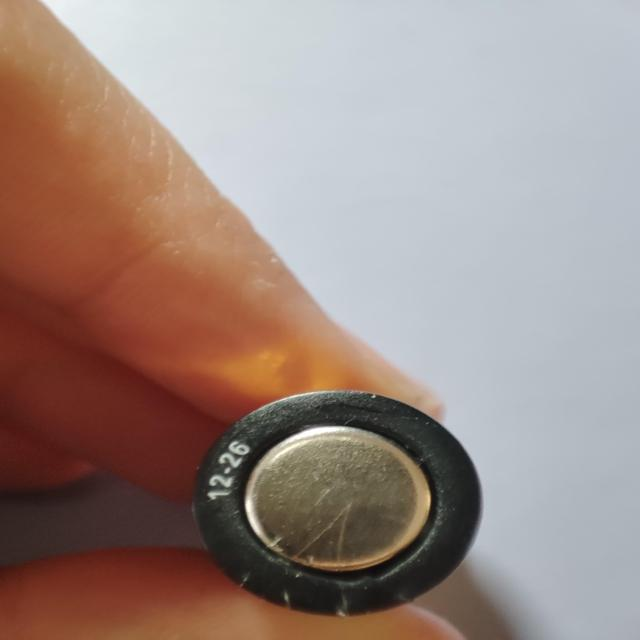AAA: (190, 388, 484, 617)
